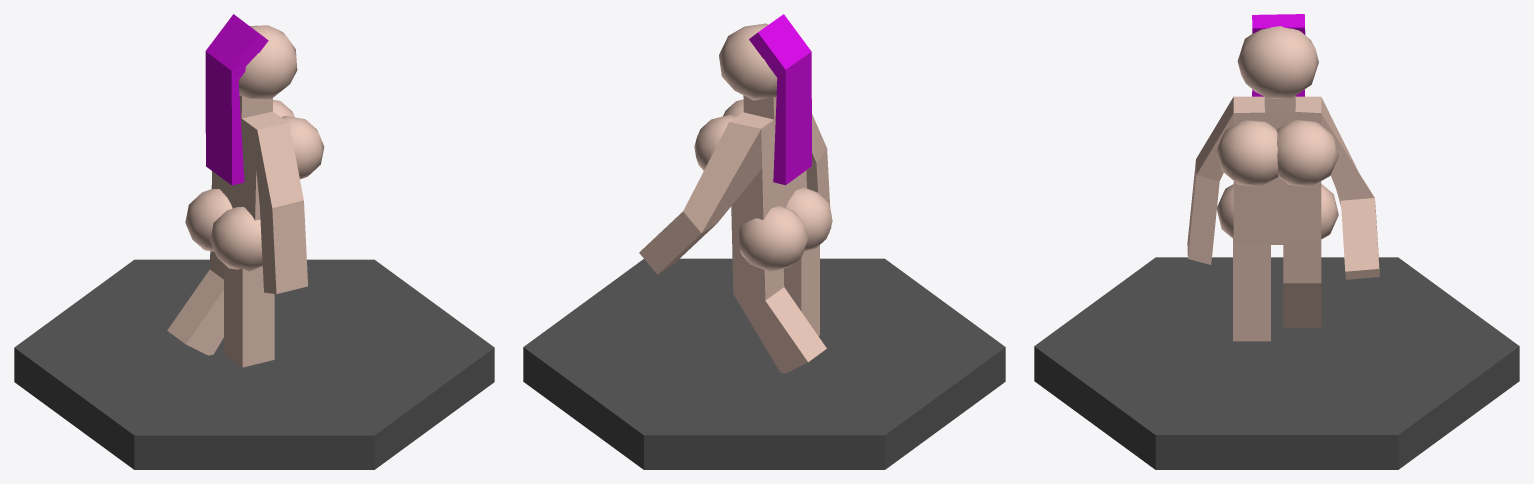
3 views of the same model, side by side, from view 1: azimuth 30°, elevation 25°; view 2: azimuth 150°, elevation 25°; view 3: azimuth 270°, elevation 25° (orthographic).
Visible parts, largest first — view 1: Cylinder, Icosphere.004, Cube.002; view 2: Cylinder, Icosphere.004, Cube.002; view 3: Cylinder, Icosphere.004, Cube.002.
Boxes of the visible parts, bbox=[...] form: Cylinder: bbox=[14, 259, 494, 469]; Icosphere.004: bbox=[167, 25, 324, 367]; Cube.002: bbox=[205, 14, 268, 185]; Cylinder: bbox=[523, 258, 1005, 469]; Icosphere.004: bbox=[639, 23, 832, 373]; Cube.002: bbox=[749, 14, 811, 185]; Cylinder: bbox=[1034, 257, 1519, 469]; Icosphere.004: bbox=[1187, 26, 1379, 341]; Cube.002: bbox=[1252, 14, 1305, 96].
Size of the model in its own units: 39.32 by 37.51 by 45.4.
